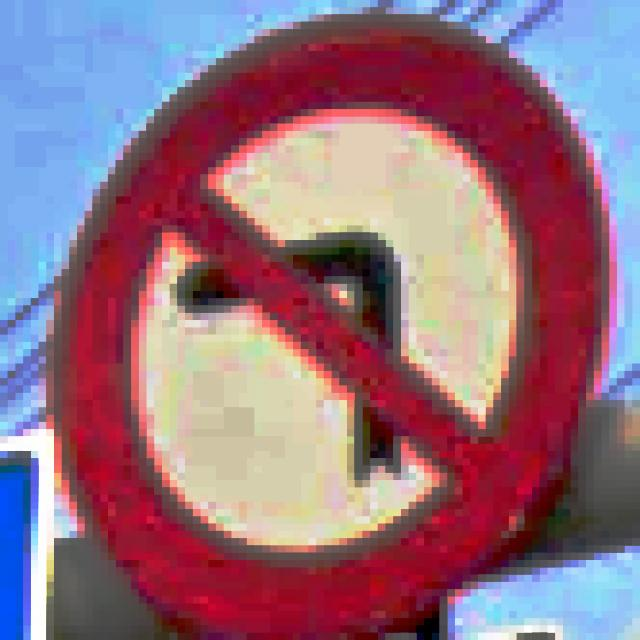noturnleft: (46, 7, 609, 633)
